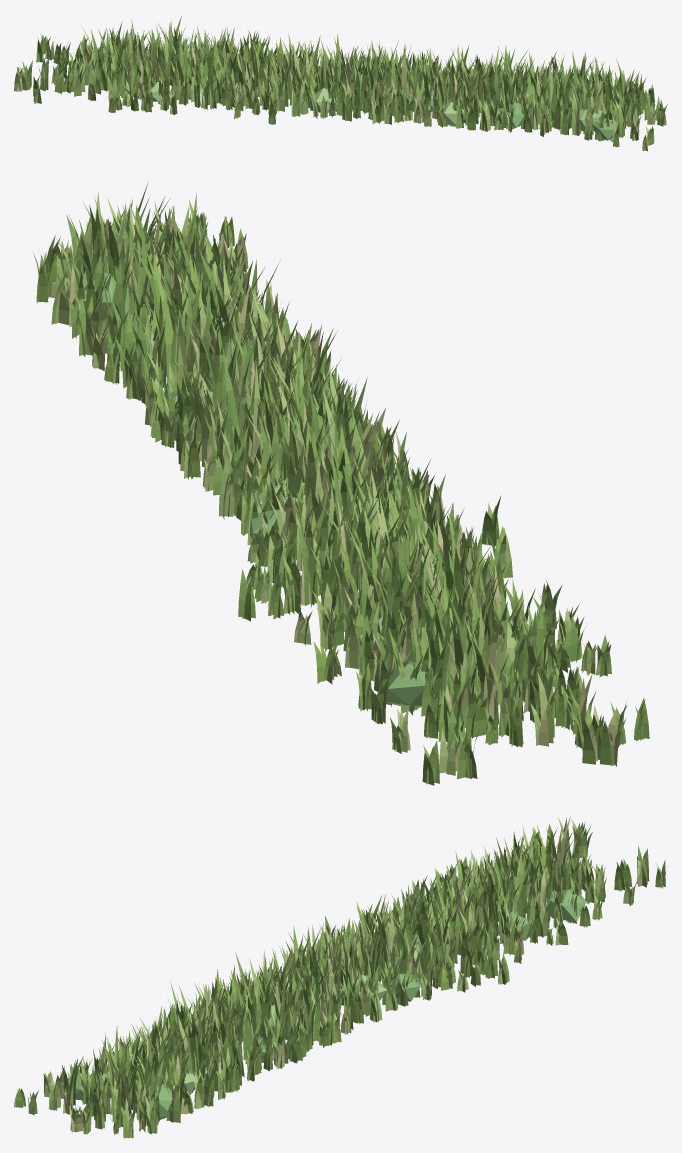
File: barrera_pasto_alto.glb
The picture shows the model from 3 angles, top to bottom: view 1: azimuth 30°, elevation 25°; view 2: azimuth 150°, elevation 25°; view 3: azimuth 270°, elevation 25°; orthographic projection. The views are drawn at different scales.
Parts seen in each view (by area): view 1: PastoAlto, ArbustosBarrera; view 2: PastoAlto, ArbustosBarrera; view 3: PastoAlto, ArbustosBarrera.
Part boxes in pixels (x1,y1,x2,y2): PastoAlto: (14, 15, 667, 151); ArbustosBarrera: (127, 66, 619, 140); PastoAlto: (33, 181, 649, 785); ArbustosBarrera: (68, 255, 528, 706); PastoAlto: (14, 815, 665, 1138); ArbustosBarrera: (61, 889, 586, 1119).
Size of the model in its own units: 72.79 by 9.88 by 68.94.
